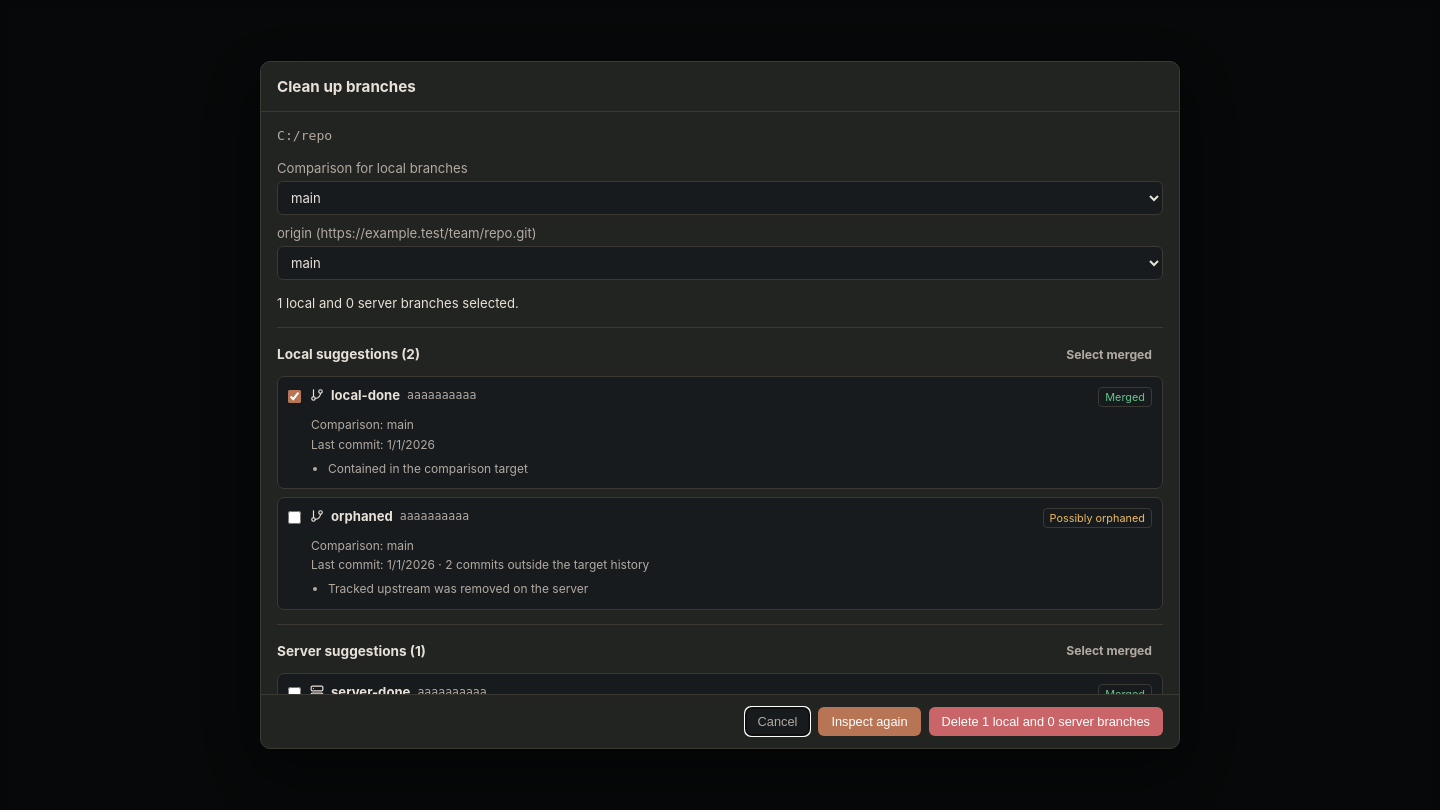
Test: branch cleanup review dialog › stops pending deletion on Escape and keeps completed outcomes visible
Click the button with class "dialog-btn-danger" at point(1046, 722), box [929,707,1163,736]
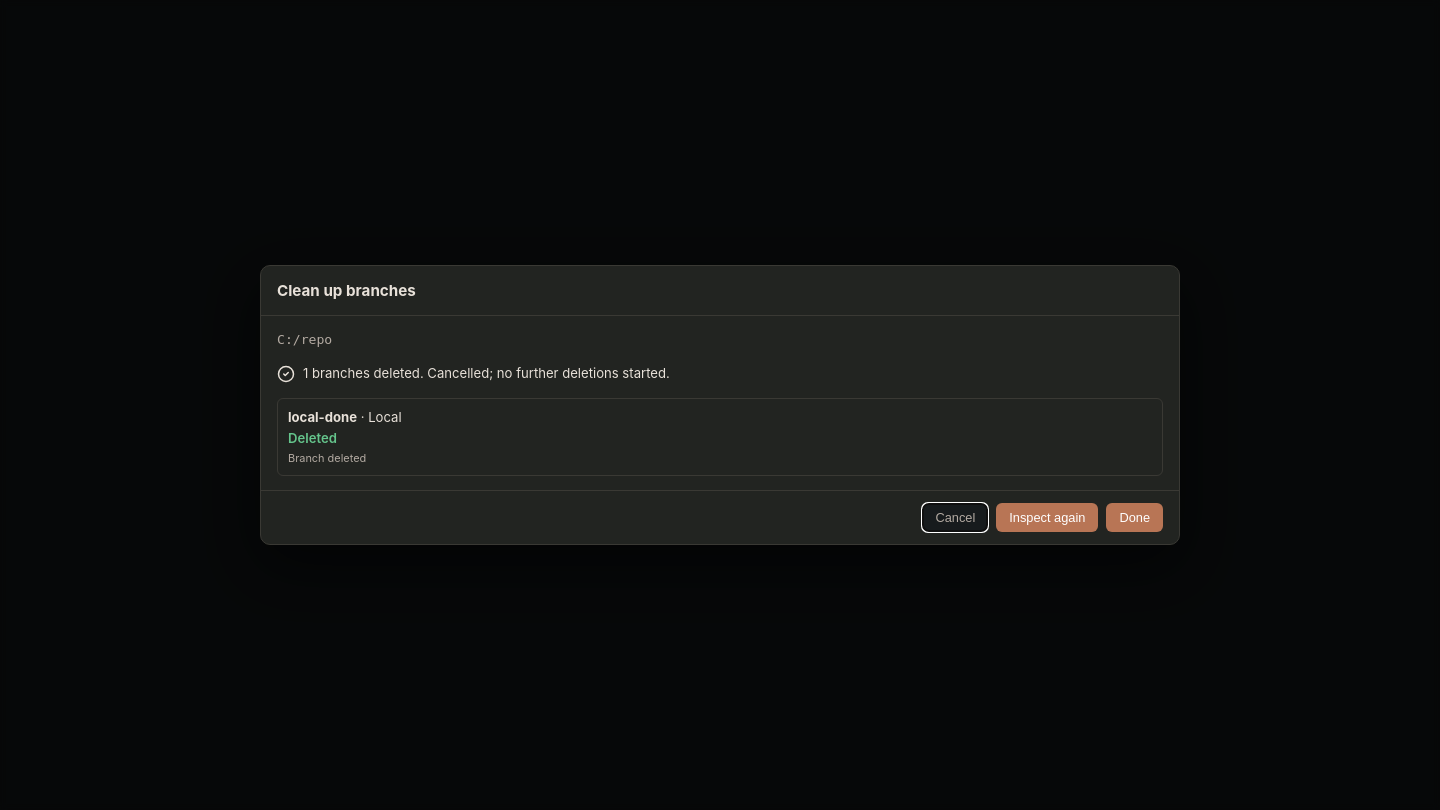
Check: the text "1 branches deleted." is shown, box [303,365,424,381]
Check: the text "Cancelled" is shown, box [424,365,670,381]
